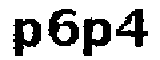4: (115, 5, 150, 52)
6: (46, 6, 81, 50)
p: (81, 14, 114, 60), (9, 16, 43, 59)
